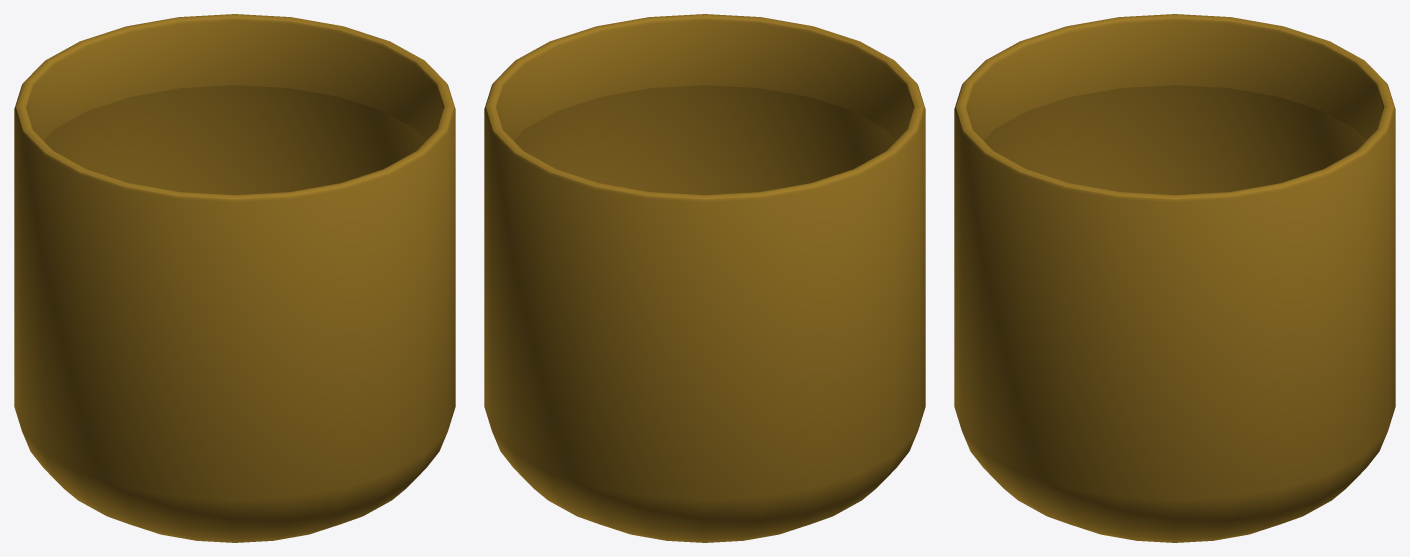
File: Pot_6.FBX
3 renders of one model, left to right at view 1: azimuth 30°, elevation 25°; view 2: azimuth 150°, elevation 25°; view 3: azimuth 270°, elevation 25°, orthographic.
Parts seen in each view (by area): view 1: Pot_6; view 2: Pot_6; view 3: Pot_6.
Boxes of the visible parts, x1,y1,x2,y2 form: Pot_6: (14, 14, 455, 542); Pot_6: (484, 14, 925, 542); Pot_6: (954, 14, 1395, 542).
Bounding box in the file's own units: 12.64 × 12.11 × 12.64.
